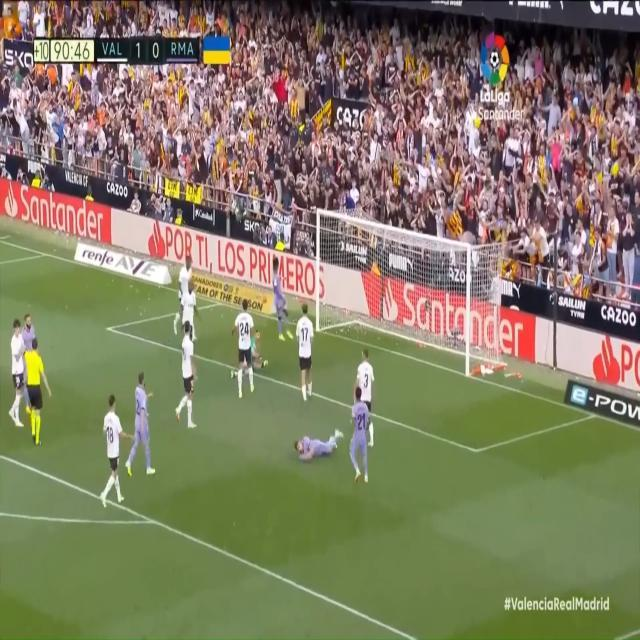goalkeeper: (233, 326, 264, 383)
player: (125, 366, 155, 480), (98, 395, 126, 502), (174, 316, 198, 428), (233, 294, 255, 401), (349, 384, 372, 486), (295, 421, 346, 467), (353, 344, 375, 441), (7, 316, 25, 433), (295, 301, 315, 403), (236, 298, 255, 403), (271, 258, 291, 340), (174, 254, 193, 339), (181, 282, 200, 347), (22, 309, 36, 372)
referee: (25, 338, 46, 445)
